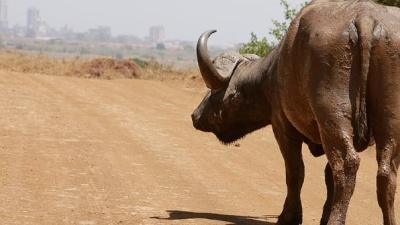buffalo: (191, 0, 399, 224)
